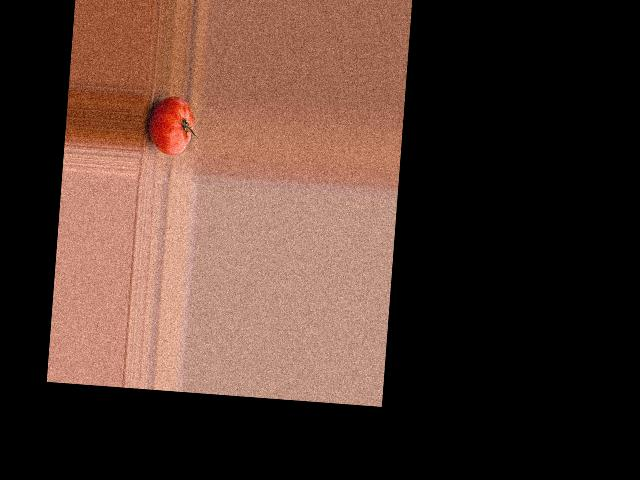tomato: (146, 95, 195, 157)
